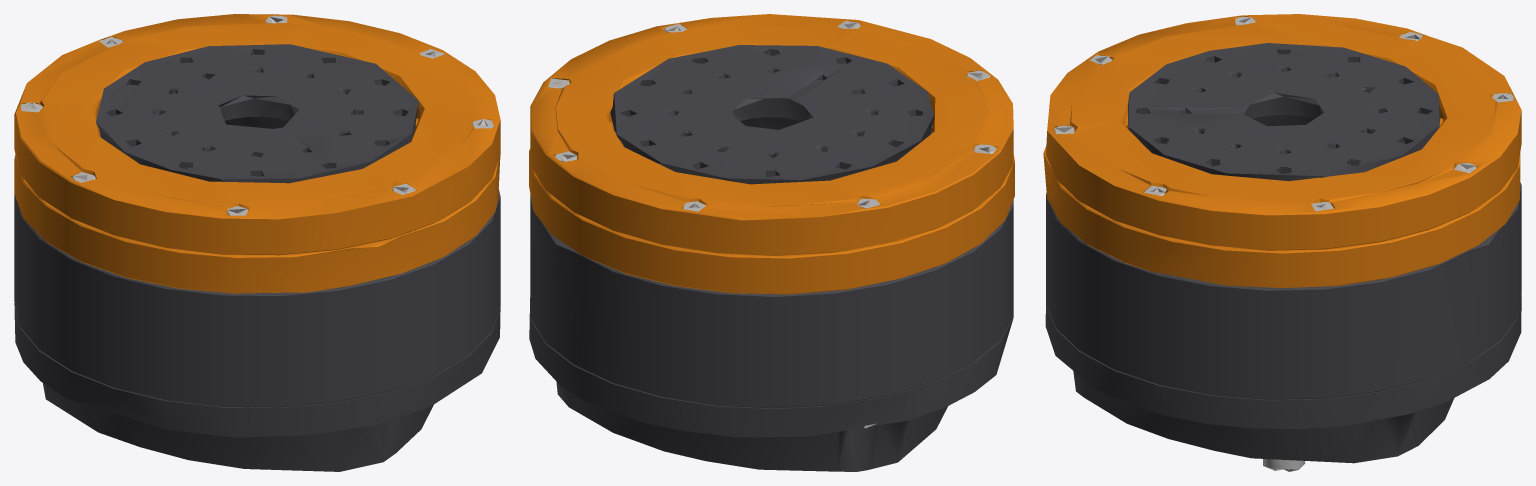
The model's file is motor4.dae.
3 views of the same model, side by side, from view 1: azimuth 30°, elevation 25°; view 2: azimuth 150°, elevation 25°; view 3: azimuth 270°, elevation 25° (orthographic). The views are drawn at different scales.
Visible parts, largest first — view 1: motor4; view 2: motor4; view 3: motor4.
Part boxes in pixels (box(x1,y1,x2,y2)): motor4: box(14, 14, 500, 471); motor4: box(529, 14, 1014, 471); motor4: box(1043, 14, 1521, 471).
Size of the model in its own units: 0.105 by 0.1054 by 0.073.
